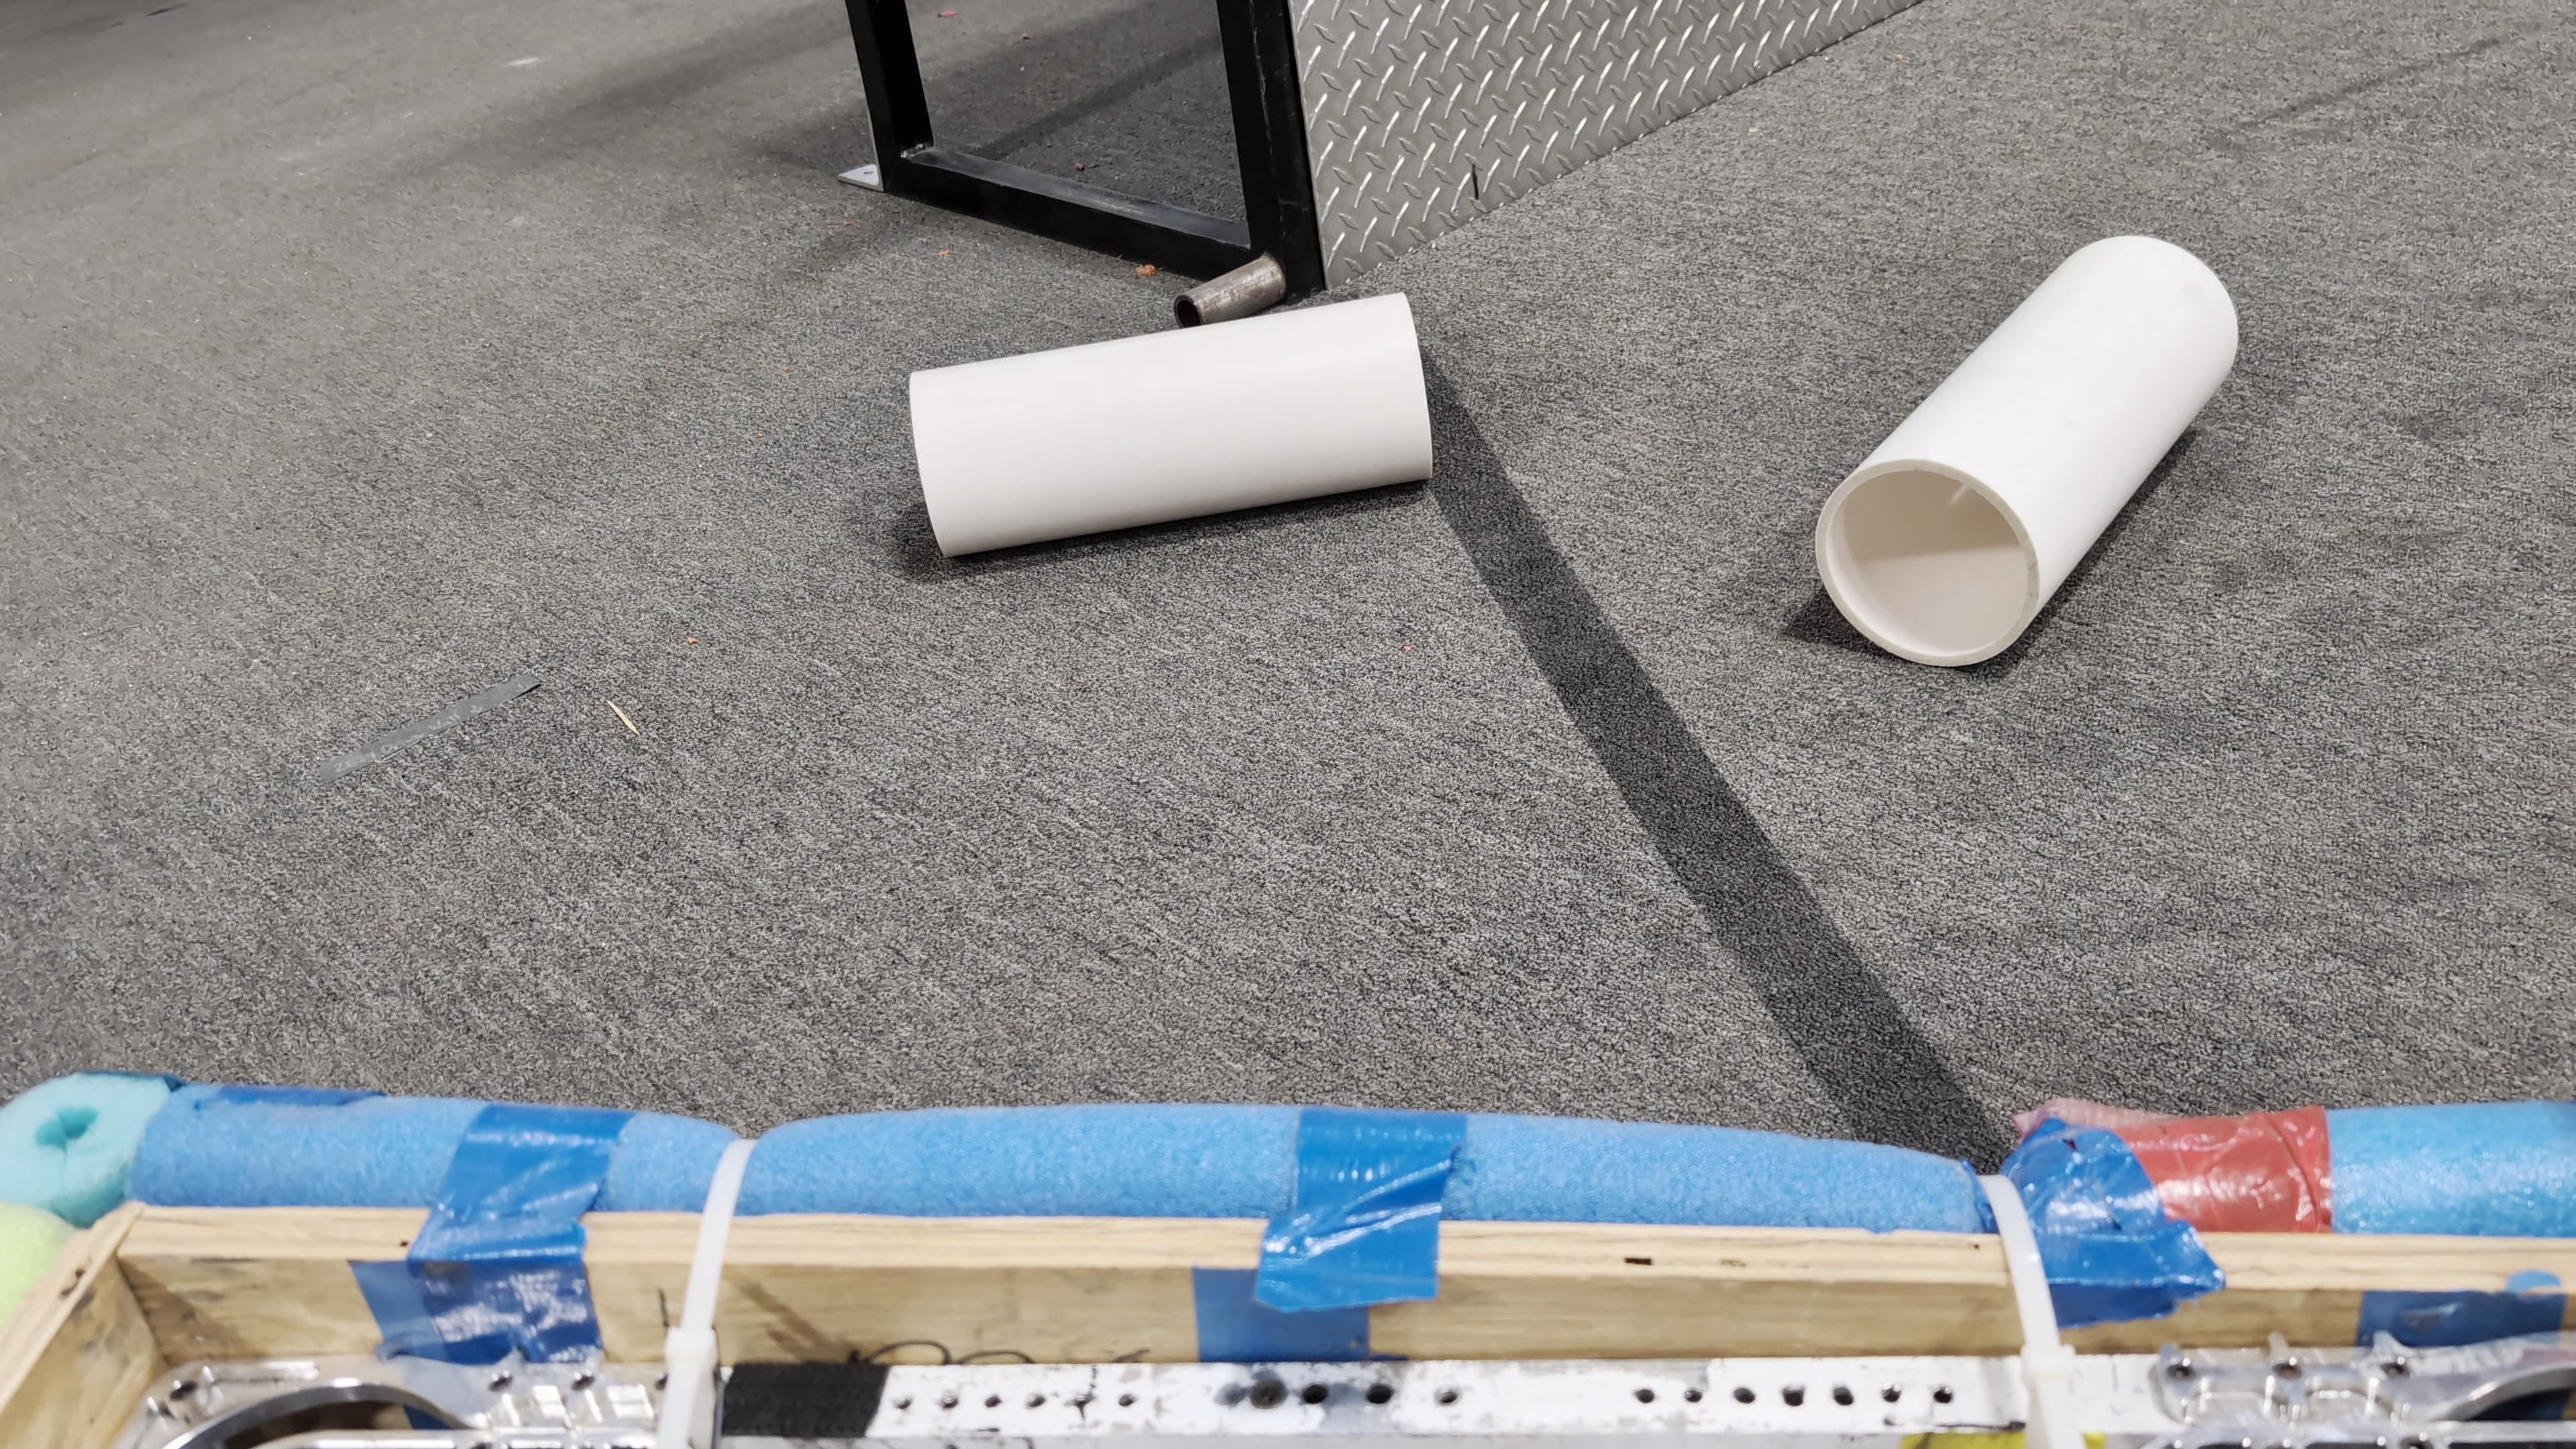coral: (1813, 230, 2243, 665), (908, 288, 1435, 557)
